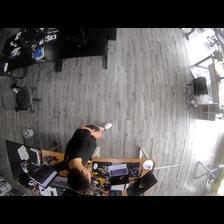normal: (66, 119, 114, 189)
